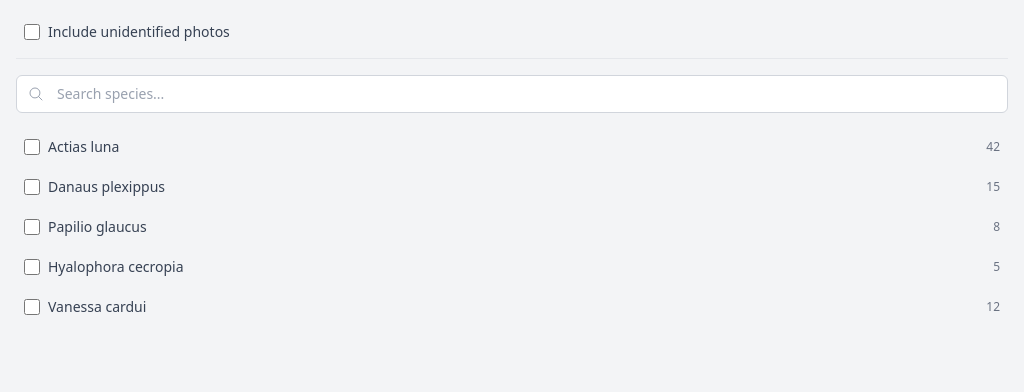
Test: SpeciesFilter › Selected Species Display › shows selected species as chips
Click the checkbox named "select species actias luna": (32, 147) [24,139,40,155]
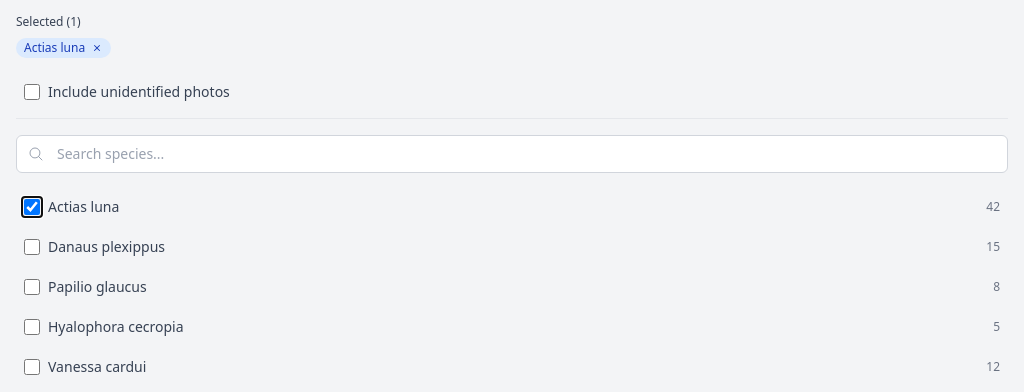
Now the button with aria-label "Tag: Actias luna" is shown, box [16,38,111,58]
